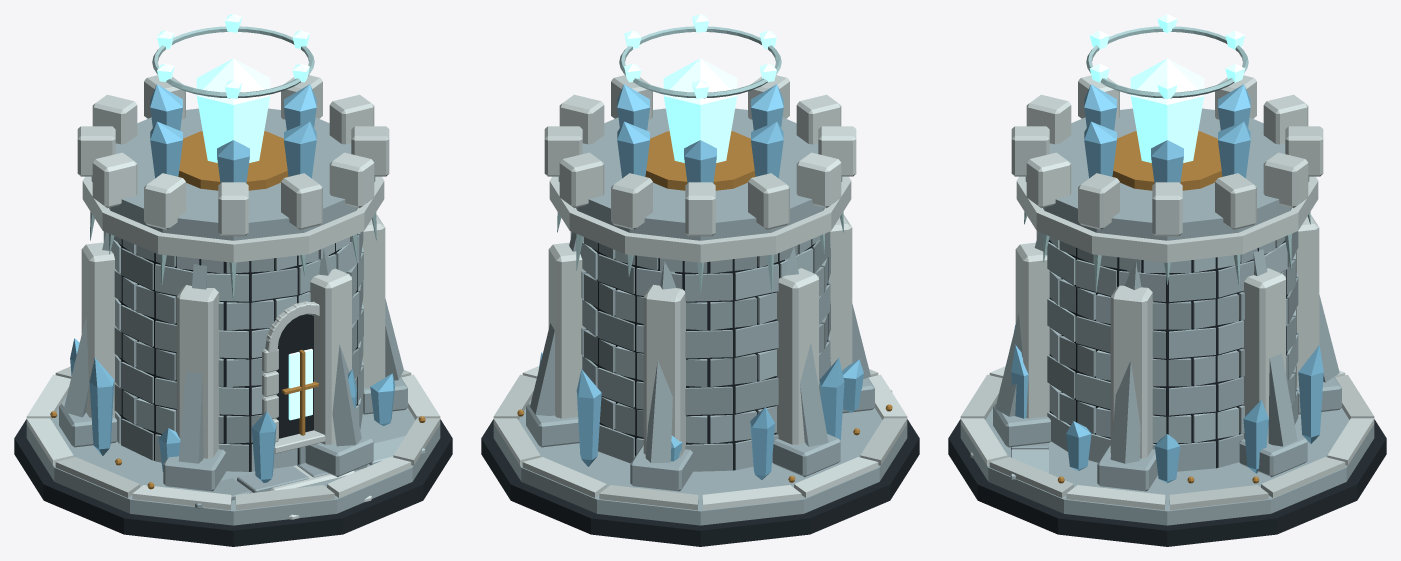
File: frost__eterna__L05.glb
The picture shows the model from 3 angles, left to right: view 1: azimuth 30°, elevation 25°; view 2: azimuth 150°, elevation 25°; view 3: azimuth 270°, elevation 25°; orthographic projection.
Visible parts, largest first — view 1: structure, weapon; view 2: structure, weapon; view 3: structure, weapon.
Part boxes in pixels (bbox=[...]): structure: bbox=[14, 75, 452, 546]; weapon: bbox=[150, 14, 316, 190]; structure: bbox=[481, 75, 919, 546]; weapon: bbox=[617, 14, 783, 190]; structure: bbox=[948, 75, 1386, 546]; weapon: bbox=[1084, 14, 1250, 190].
Size of the model in its own units: 0.8624 by 0.8844 by 0.8624.
